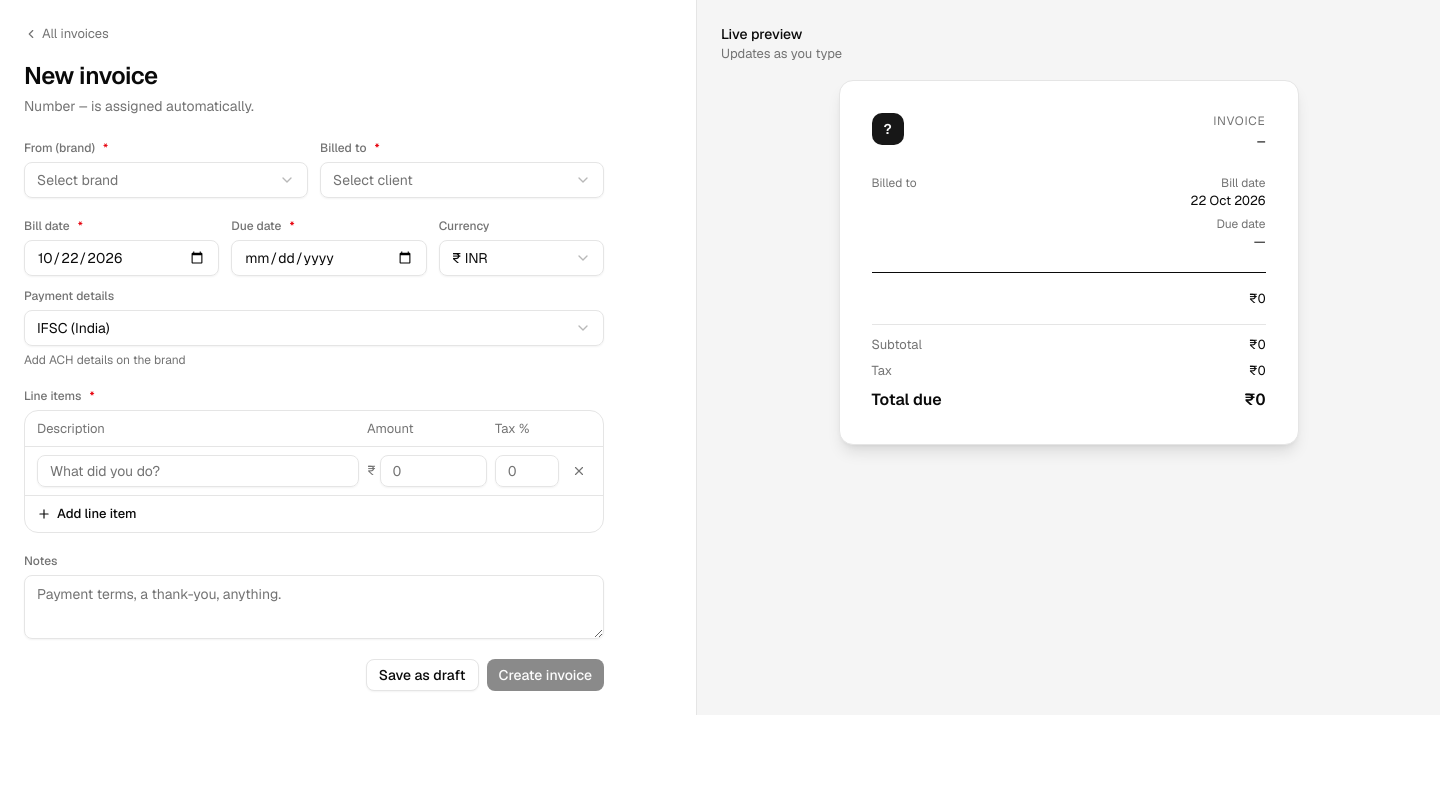
Test: InvoiceForm › mandatory-field validation on save (create and edit, identically) › toasts, highlights every missing field, and scrolls to the first one in form order
This screenshot has width=1440, height=810.
Click the dropdown labelled "Select brand" at (78,180), box [24,162,308,198]
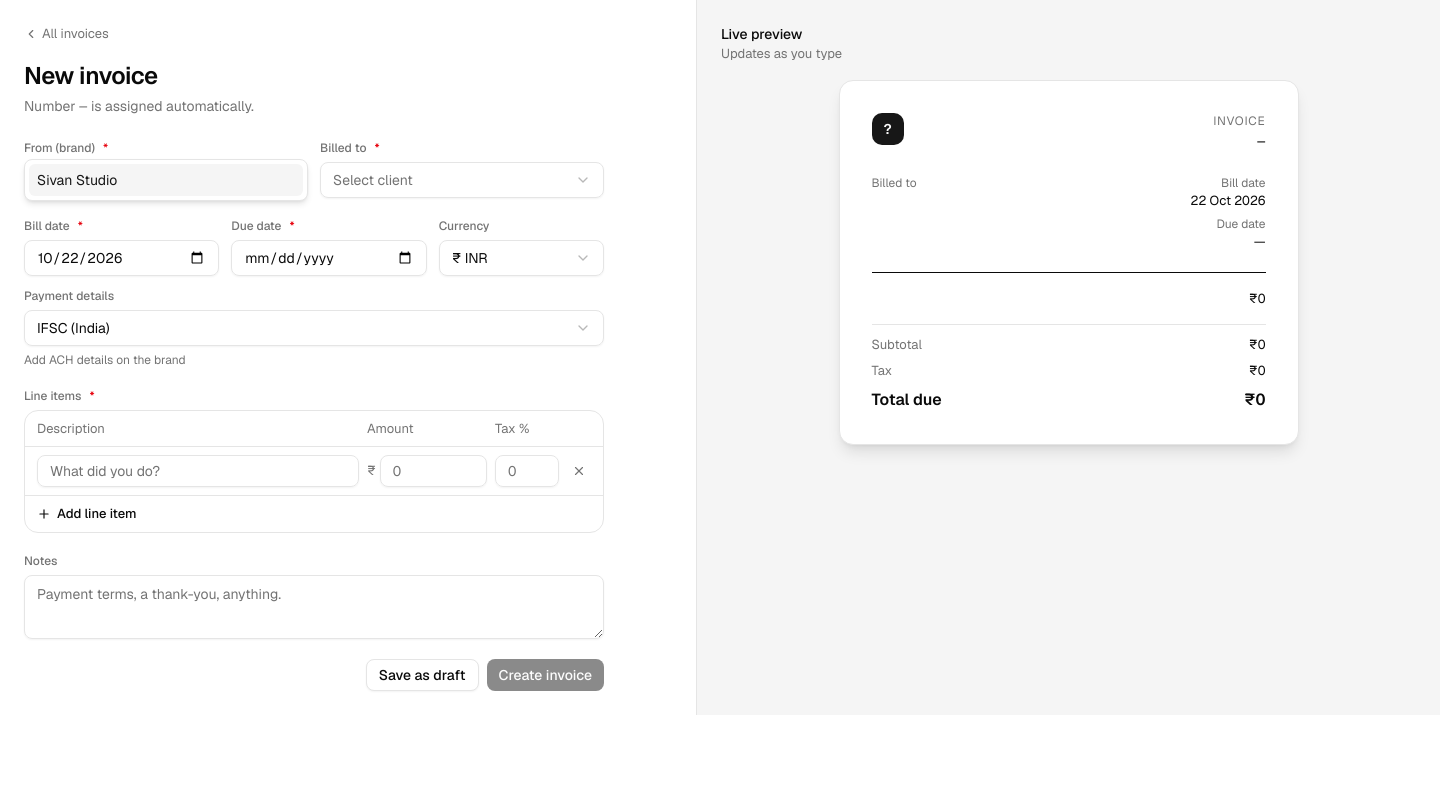
Click the option "Sivan Studio" at (77,180), box [29,164,303,196]
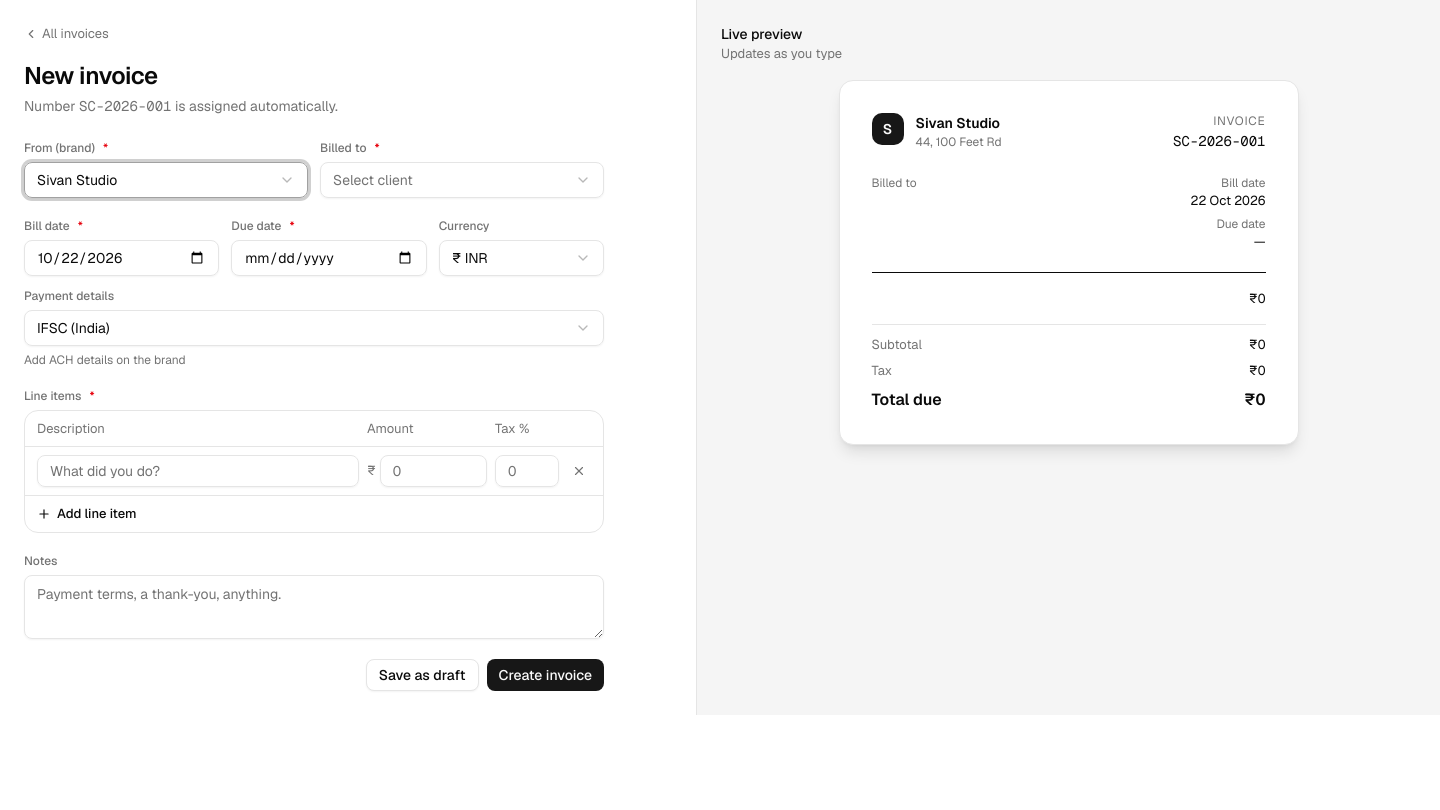
Expected: the button "Create invoice" is enabled
Click the button "Create invoice" at (545,674), box [487,658,604,690]
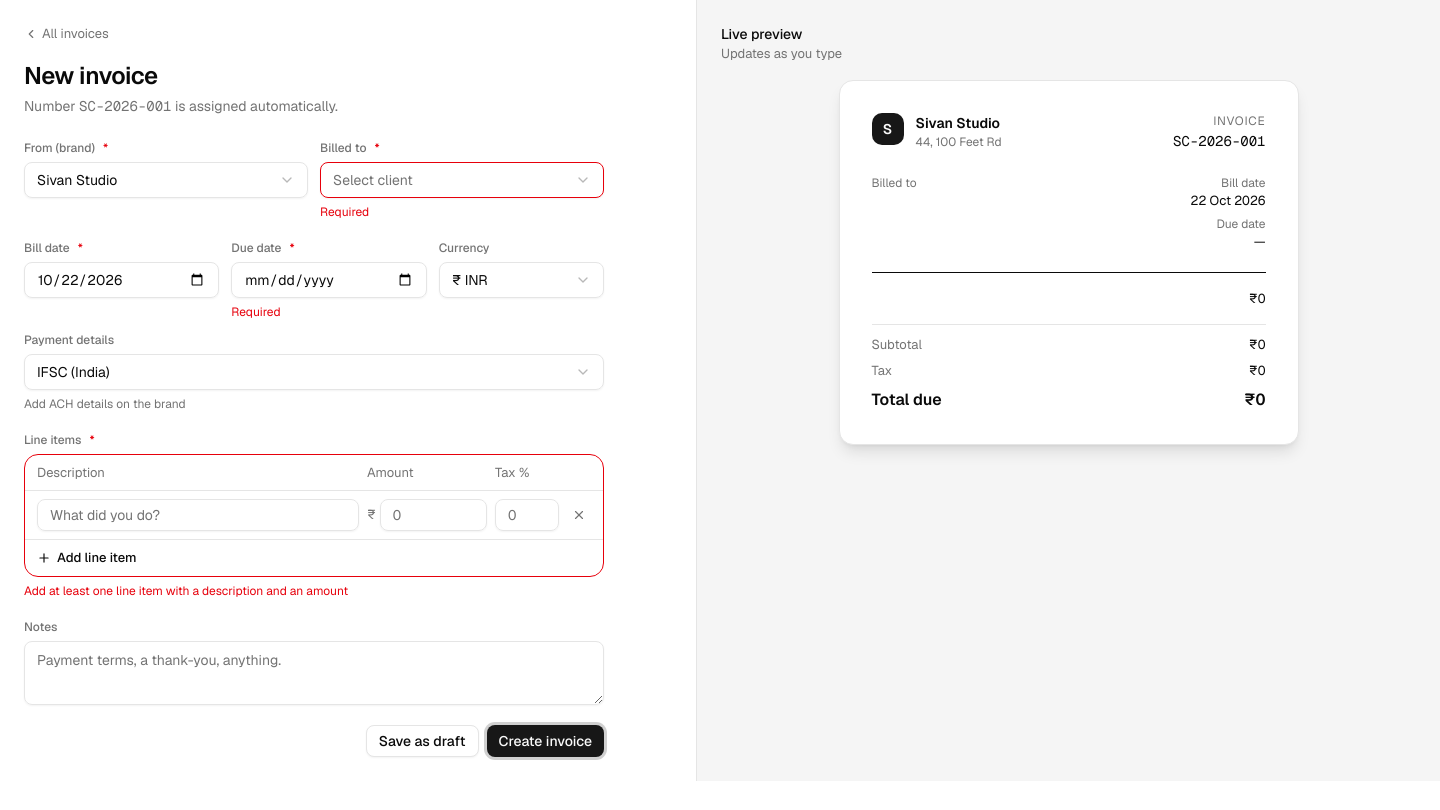
Expected: the element with id "field-line-items" shows "Add at least one line item with a description and an amount", [24,582,348,598]
